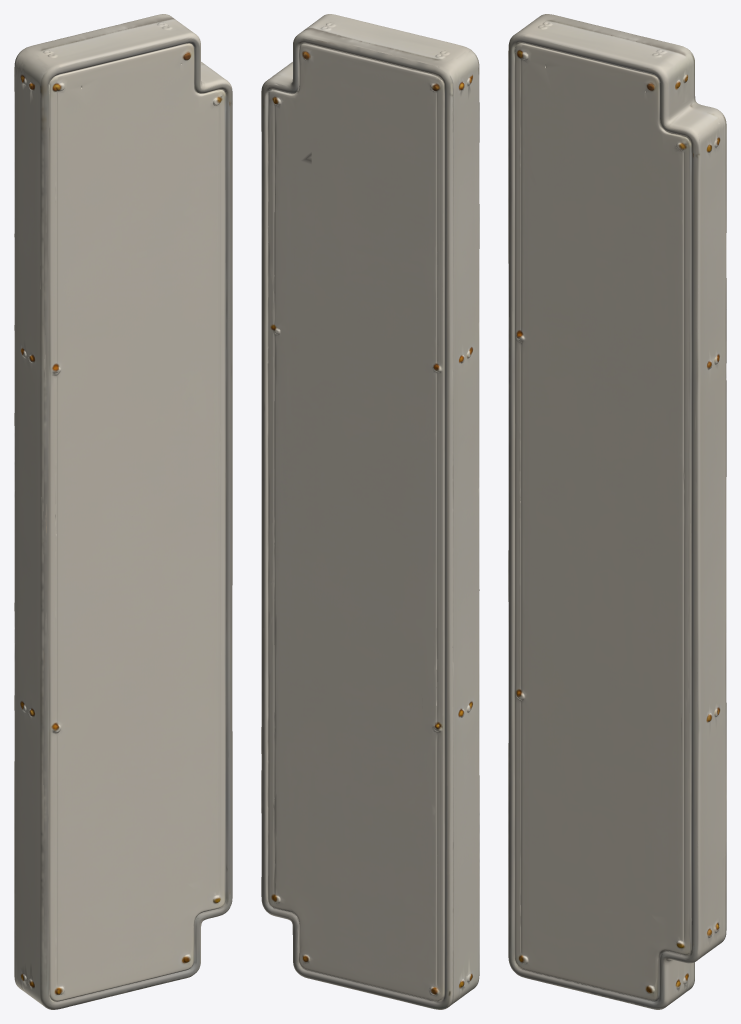
Rendered from original.glb.
3 renders of one model, left to right at view 1: azimuth 30°, elevation 25°; view 2: azimuth 150°, elevation 25°; view 3: azimuth 330°, elevation 25°, orthographic.
Parts seen in each view (by area): view 1: node_0; view 2: node_0; view 3: node_0.
Part boxes in pixels (x1,y1,x2,y2): node_0: (14, 14, 232, 1009); node_0: (261, 14, 479, 1009); node_0: (508, 14, 726, 1009).
Size of the model in its own units: 0.2531 by 1.18 by 0.0735.
Materials: 1 (1 with a texture image).
